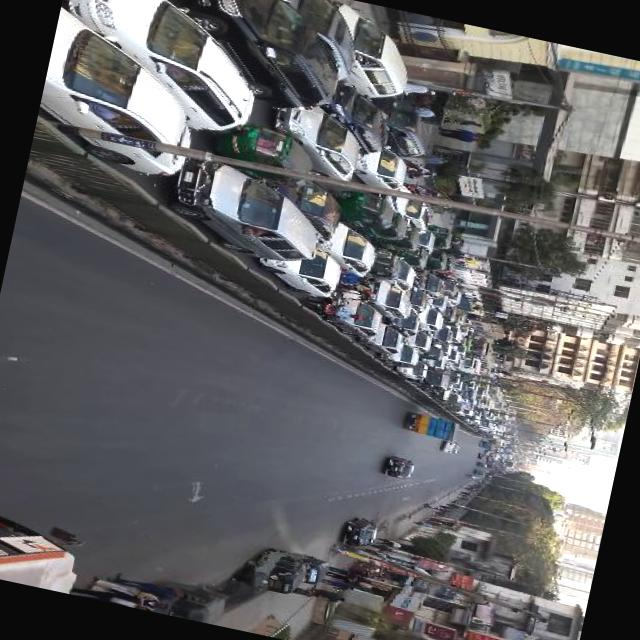bus: (0, 504, 84, 594), (461, 338, 496, 372), (484, 384, 508, 404)
car: (56, 0, 276, 137), (32, 56, 202, 182), (266, 103, 367, 183), (150, 77, 256, 143), (264, 172, 346, 245), (253, 238, 343, 302), (348, 140, 411, 193), (322, 294, 384, 342), (380, 184, 436, 237), (329, 116, 389, 160), (356, 320, 405, 359), (388, 128, 432, 163), (376, 339, 422, 369), (410, 269, 450, 302), (347, 517, 378, 551), (387, 308, 422, 338), (402, 286, 431, 318), (399, 328, 432, 356), (420, 306, 448, 334), (418, 306, 446, 334), (429, 323, 455, 348), (386, 458, 415, 480), (421, 352, 445, 370), (446, 327, 465, 345), (440, 441, 460, 456), (447, 288, 462, 308)
motorcycle: (206, 118, 317, 191), (239, 544, 306, 596), (166, 581, 228, 626), (332, 190, 396, 233), (354, 205, 410, 245), (298, 297, 366, 327), (297, 552, 328, 588), (398, 244, 430, 268), (427, 227, 455, 251), (426, 250, 451, 274), (420, 346, 444, 363), (438, 280, 459, 298), (442, 308, 456, 324), (446, 256, 458, 274), (472, 470, 483, 477), (467, 474, 478, 480), (478, 463, 488, 469)
truck: (172, 0, 347, 117), (163, 154, 331, 270), (318, 3, 424, 106), (364, 278, 416, 322), (400, 412, 460, 444), (408, 364, 451, 392), (436, 388, 464, 407), (460, 356, 483, 376), (456, 385, 478, 401)
